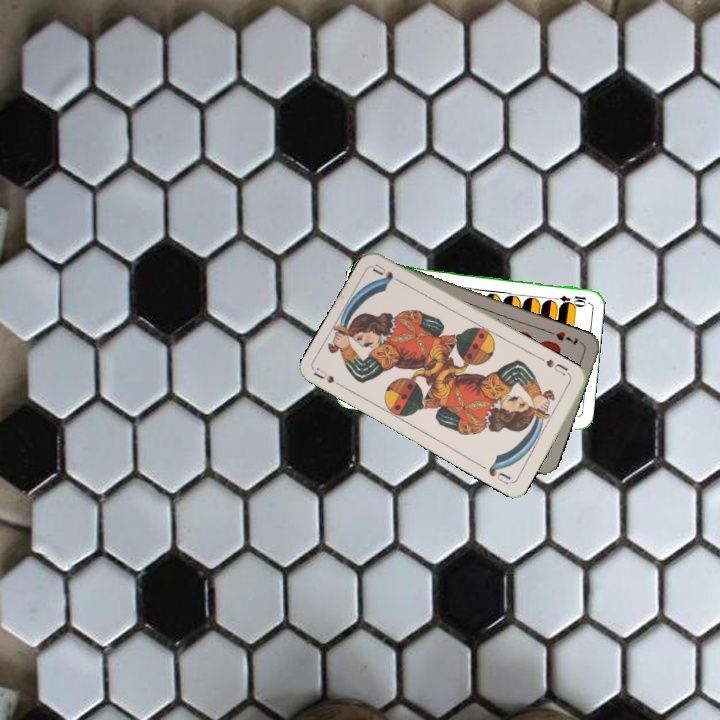E10: (548, 291, 589, 307)
H7: (552, 327, 581, 348)
SU: (311, 365, 349, 392), (537, 354, 571, 378)
